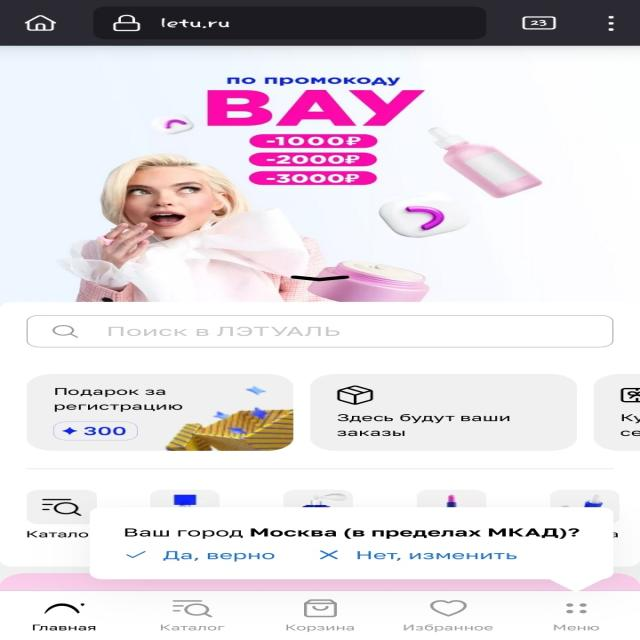button: (308, 541, 528, 571), (116, 545, 292, 568)
site: (93, 507, 616, 578)
